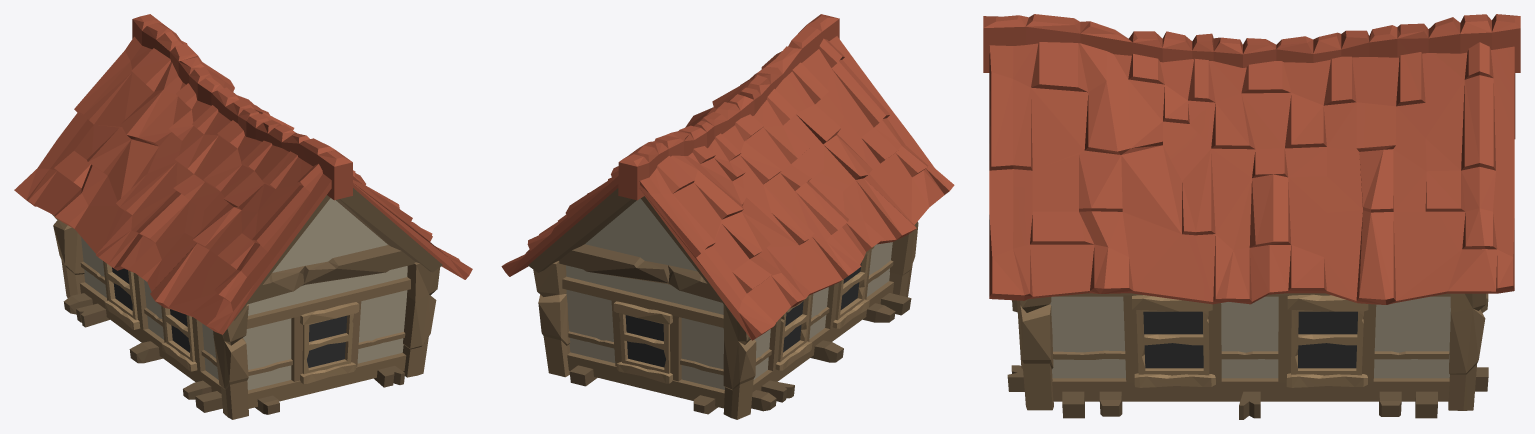
The model's file is SM_Bld_House_RoomTop_01.gltf.
The picture shows the model from 3 angles, left to right: view 1: azimuth 30°, elevation 25°; view 2: azimuth 150°, elevation 25°; view 3: azimuth 270°, elevation 25°; orthographic projection. The views are drawn at different scales.
Visible parts, largest first — view 1: SM_Bld_House_RoomTop_01; view 2: SM_Bld_House_RoomTop_01; view 3: SM_Bld_House_RoomTop_01.
Part boxes in pixels (x1,y1,x2,y2): SM_Bld_House_RoomTop_01: (14, 14, 472, 419); SM_Bld_House_RoomTop_01: (501, 14, 954, 419); SM_Bld_House_RoomTop_01: (983, 14, 1520, 419).
Bounding box in the file's own units: 5.43 × 4.65 × 6.86.
Materials: 1 (1 with a texture image).
